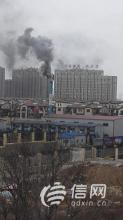smoke: (1, 24, 52, 75)
